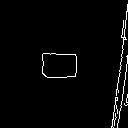cube: (32, 36, 102, 91)
